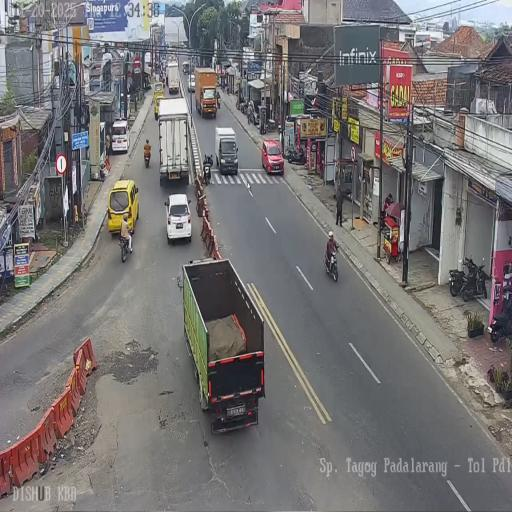3: (180, 258, 263, 434), (157, 97, 191, 186), (194, 66, 217, 120), (215, 125, 239, 175), (167, 60, 179, 95), (144, 52, 152, 74), (168, 52, 177, 63), (160, 56, 166, 71)
car: (107, 178, 139, 236), (164, 192, 192, 244), (261, 138, 284, 176), (110, 118, 129, 155), (154, 82, 166, 119), (120, 92, 132, 120), (187, 73, 195, 93), (182, 62, 190, 75), (216, 74, 221, 86)
truck: (461, 255, 488, 302), (489, 289, 512, 342), (324, 246, 338, 282), (448, 268, 466, 296), (285, 143, 306, 165), (118, 231, 132, 263), (240, 97, 250, 116), (144, 146, 150, 168), (216, 92, 220, 109), (160, 69, 164, 82)
